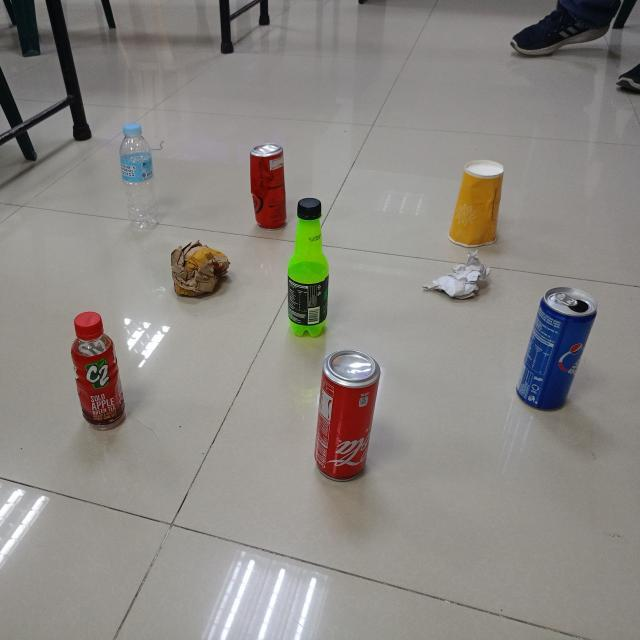recyclable waste: (512, 281, 606, 415), (310, 345, 388, 485), (65, 306, 130, 434), (283, 191, 334, 341), (442, 154, 512, 249), (115, 119, 162, 234), (418, 244, 498, 304), (166, 236, 235, 301), (246, 140, 290, 232)
